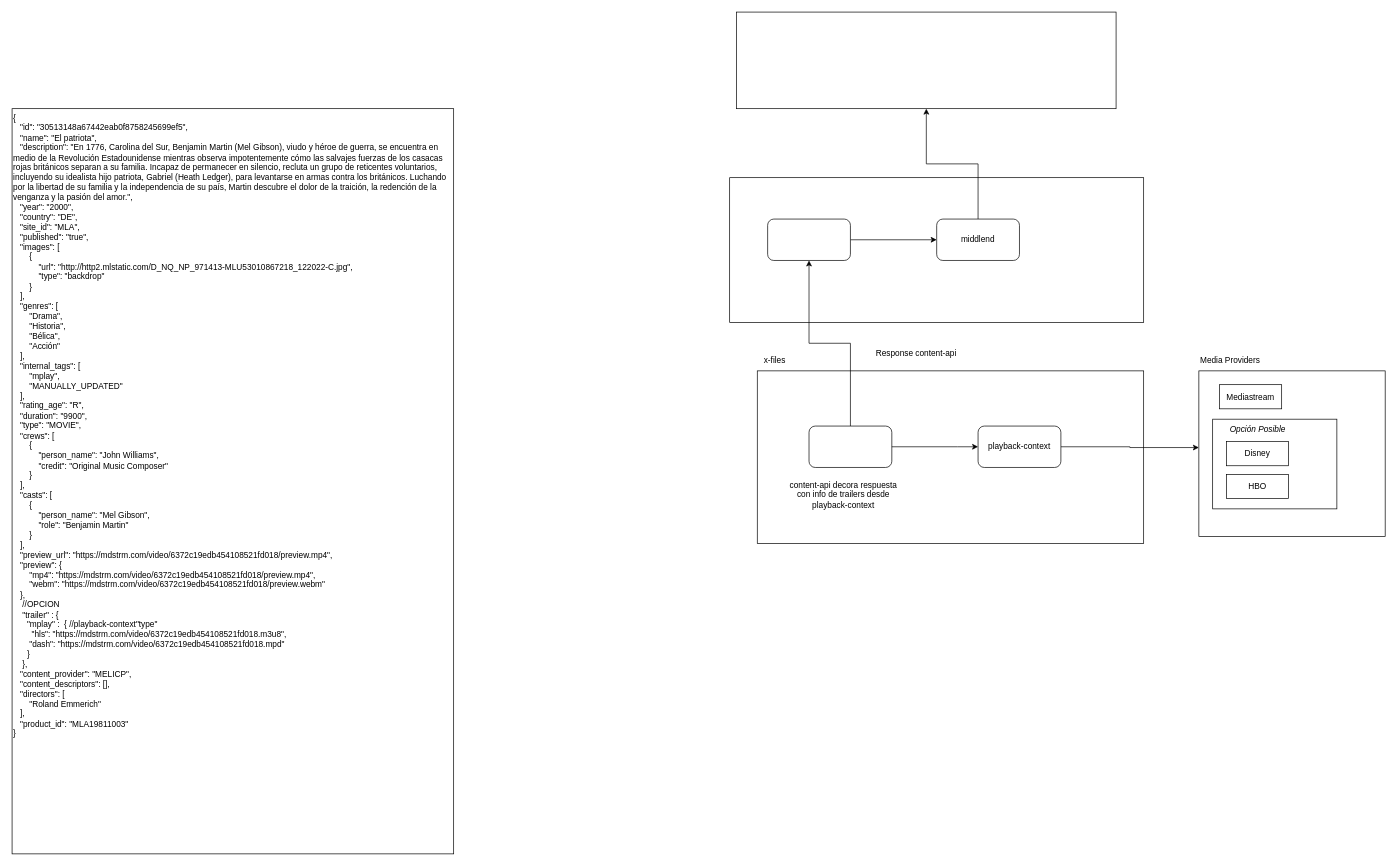
This 1397x866 diagram has some shape labels left out. The centre of each missing label's shape, as x and y in pixels:
"apps" goes at point (926, 60).
"content-api" goes at point (850, 446).
"content-backend" goes at point (808, 239).
